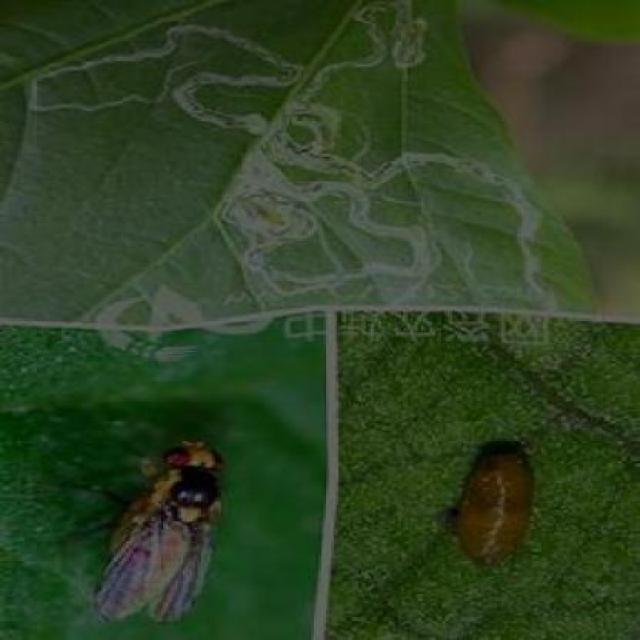whorl-maggot: (441, 423, 539, 572)
